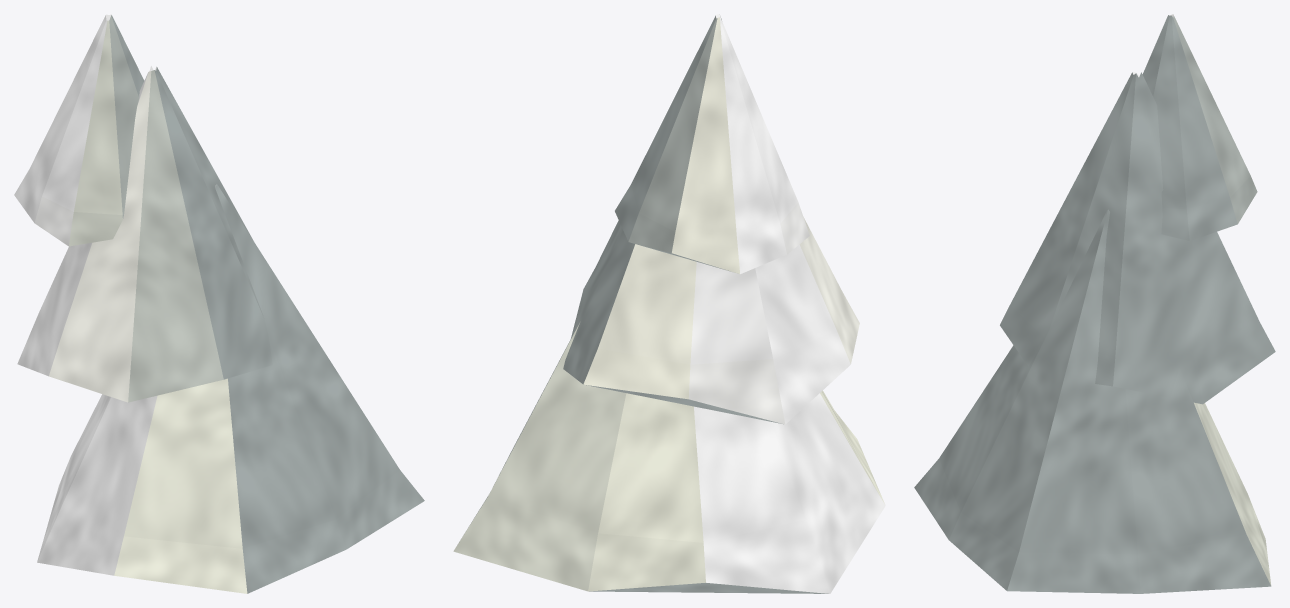
File: wood_snow.glb
3 renders of one model, left to right at view 1: azimuth 30°, elevation 25°; view 2: azimuth 150°, elevation 25°; view 3: azimuth 270°, elevation 25°, orthographic. The views are drawn at different scales.
Parts seen in each view (by area): view 1: Fällbare Tanne · Schnee; view 2: Fällbare Tanne · Schnee; view 3: Fällbare Tanne · Schnee.
Part boxes in pixels (<box>): Fällbare Tanne · Schnee: <box>14,14,424,593</box>; Fällbare Tanne · Schnee: <box>453,14,885,593</box>; Fällbare Tanne · Schnee: <box>914,14,1275,593</box>.
Bounding box in the file's own units: 1.4 × 2.15 × 1.41.
1 material, 1 textured.
